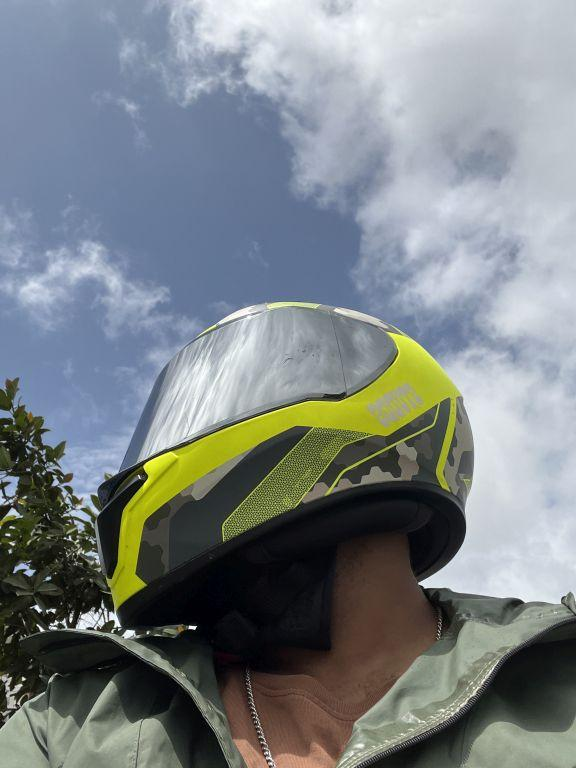helmet: (89, 284, 481, 654)
